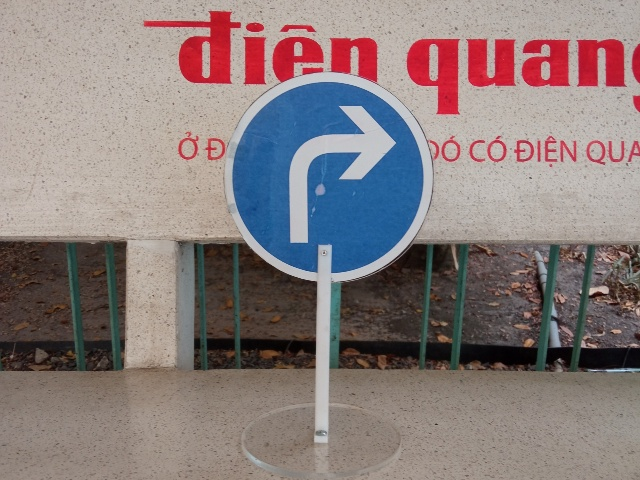Right_Sign: (224, 71, 434, 284)
